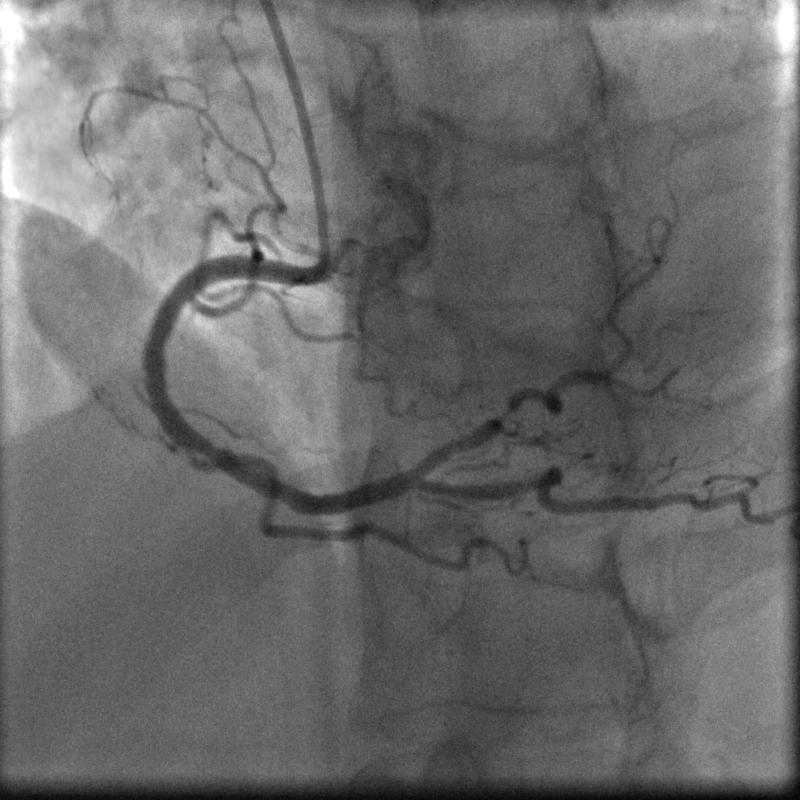Stenosis: (485, 390, 516, 431)
